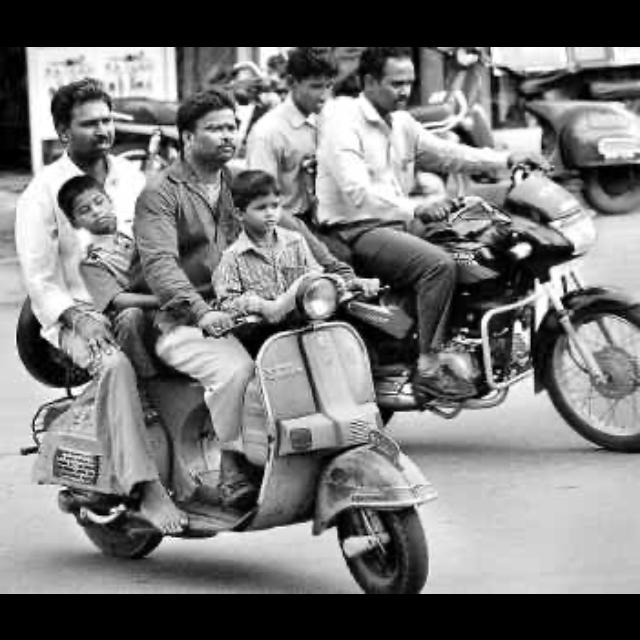Without Helmet: (349, 46, 426, 114), (176, 98, 244, 168)
